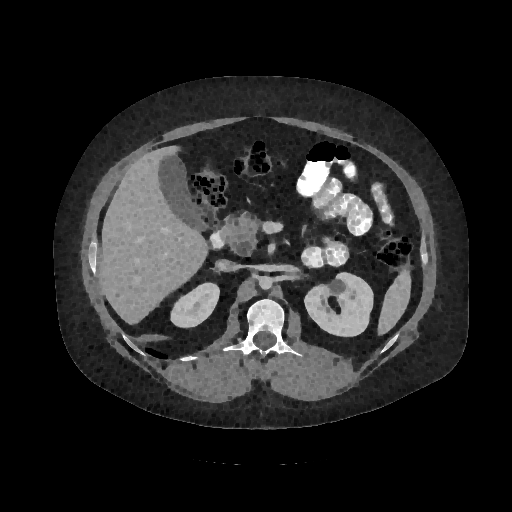Lesion: (322, 275, 349, 294)
